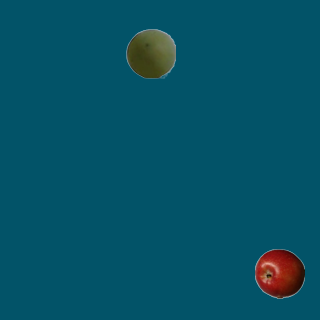Apple Braeburn: (254, 248, 304, 298)
Grape White 4: (125, 28, 175, 78)
